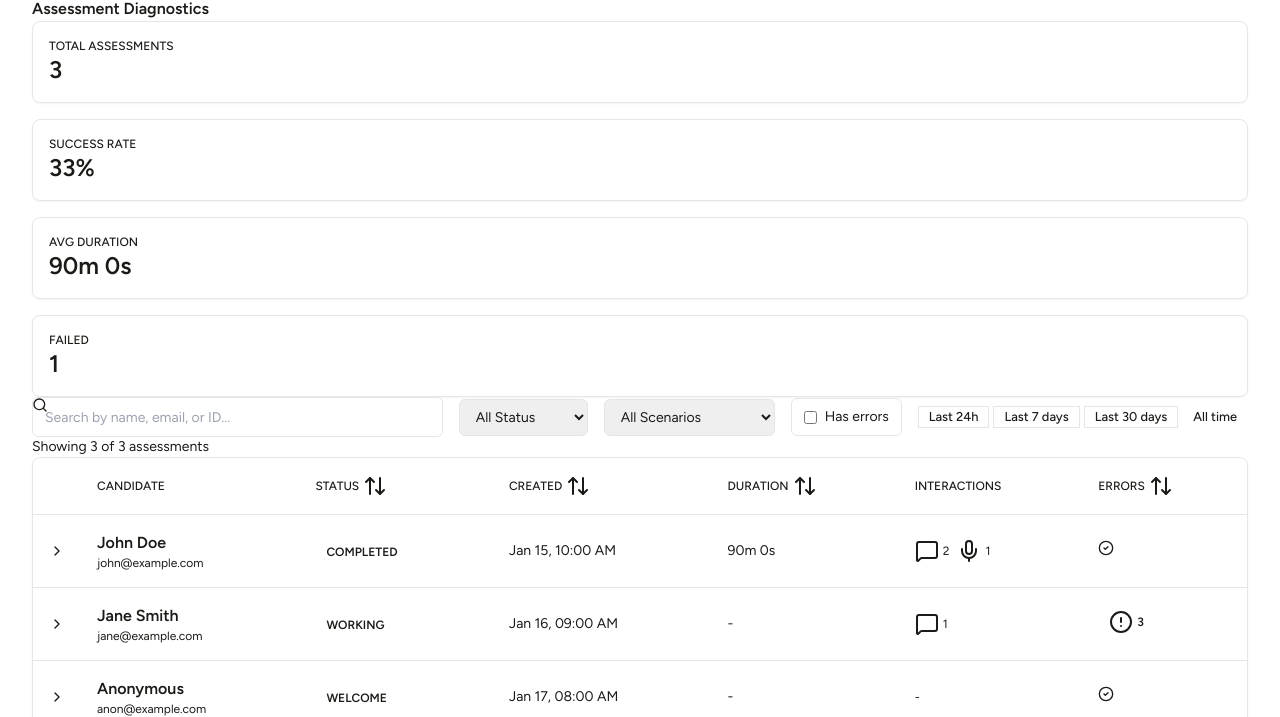
it: AssessmentsClient › Expandable row functionality › expands row when clicked
Click the row with test id "assessment-row-assess-1".
click(640, 551)  # box [33, 514, 1247, 588]
(page scrolled)
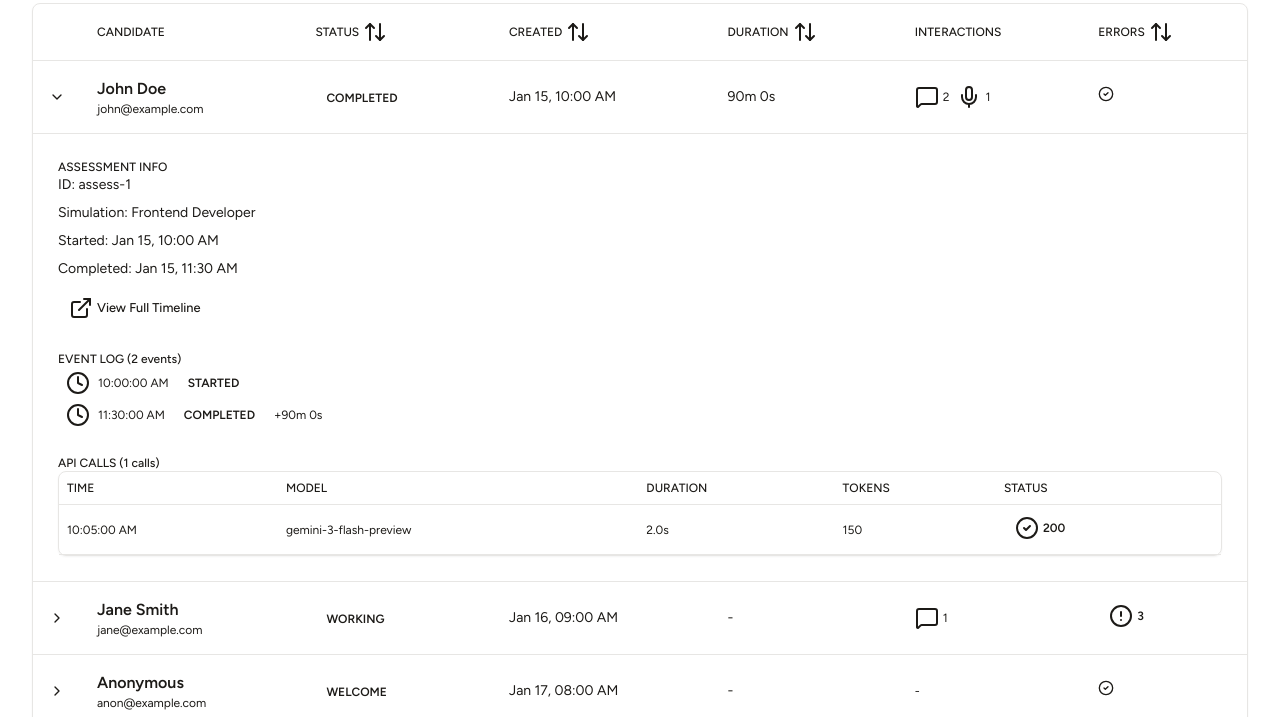
Expected: the element with test id "details-assess-1" is shown, [34, 135, 1246, 580]
